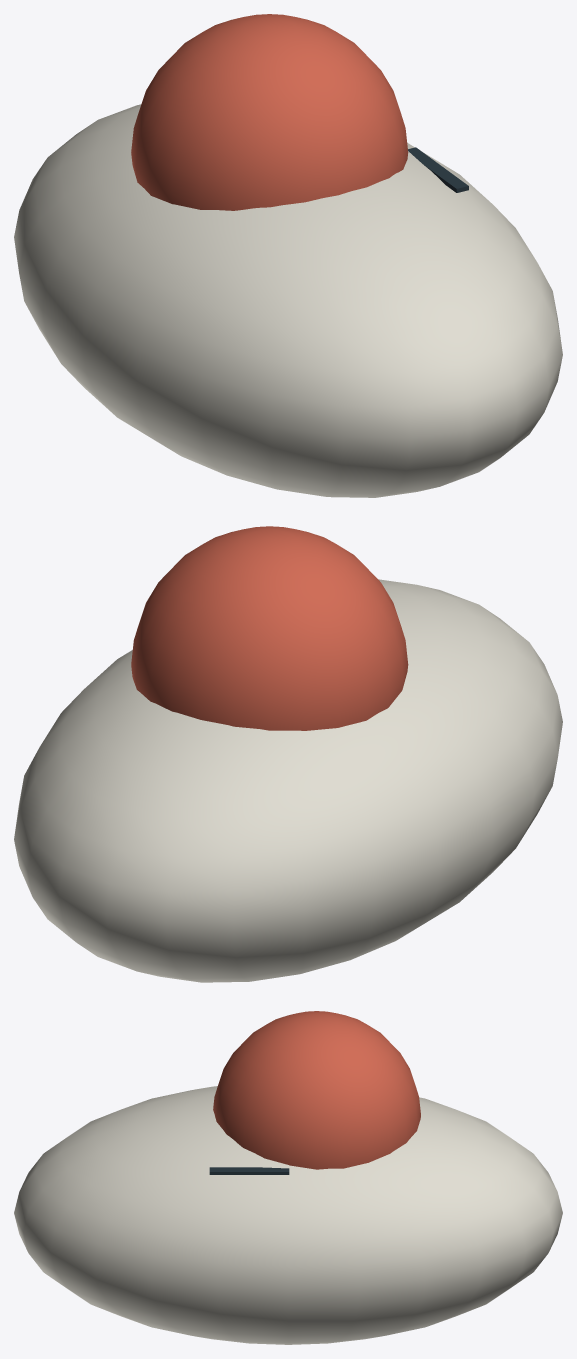
The model's file is trackball.glb.
The picture shows the model from 3 angles, top to bottom: view 1: azimuth 30°, elevation 25°; view 2: azimuth 150°, elevation 25°; view 3: azimuth 270°, elevation 25°; orthographic projection. The views are drawn at different scales.
Parts seen in each view (by area): view 1: trackball; view 2: trackball; view 3: trackball.
Boxes of the visible parts, x1=… form: trackball: x1=14, y1=14, x2=562, y2=497; trackball: x1=14, y1=526, x2=562, y2=982; trackball: x1=14, y1=1011, x2=562, y2=1344.
Bounding box in the file's own units: 0.2025 × 0.1875 × 0.3105.
